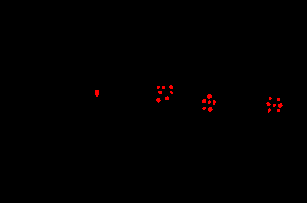Target: (95, 90, 99, 97), (207, 94, 212, 99), (156, 98, 161, 103), (278, 103, 283, 108), (208, 107, 213, 112), (266, 102, 271, 106), (169, 85, 173, 89), (165, 96, 169, 100), (202, 99, 206, 103), (213, 100, 216, 105), (268, 108, 271, 113), (158, 91, 162, 94), (208, 100, 211, 104), (202, 107, 206, 110), (157, 86, 160, 89), (162, 86, 165, 89), (170, 91, 173, 94), (269, 97, 272, 100), (277, 98, 280, 101), (273, 104, 276, 107), (277, 109, 280, 112)
